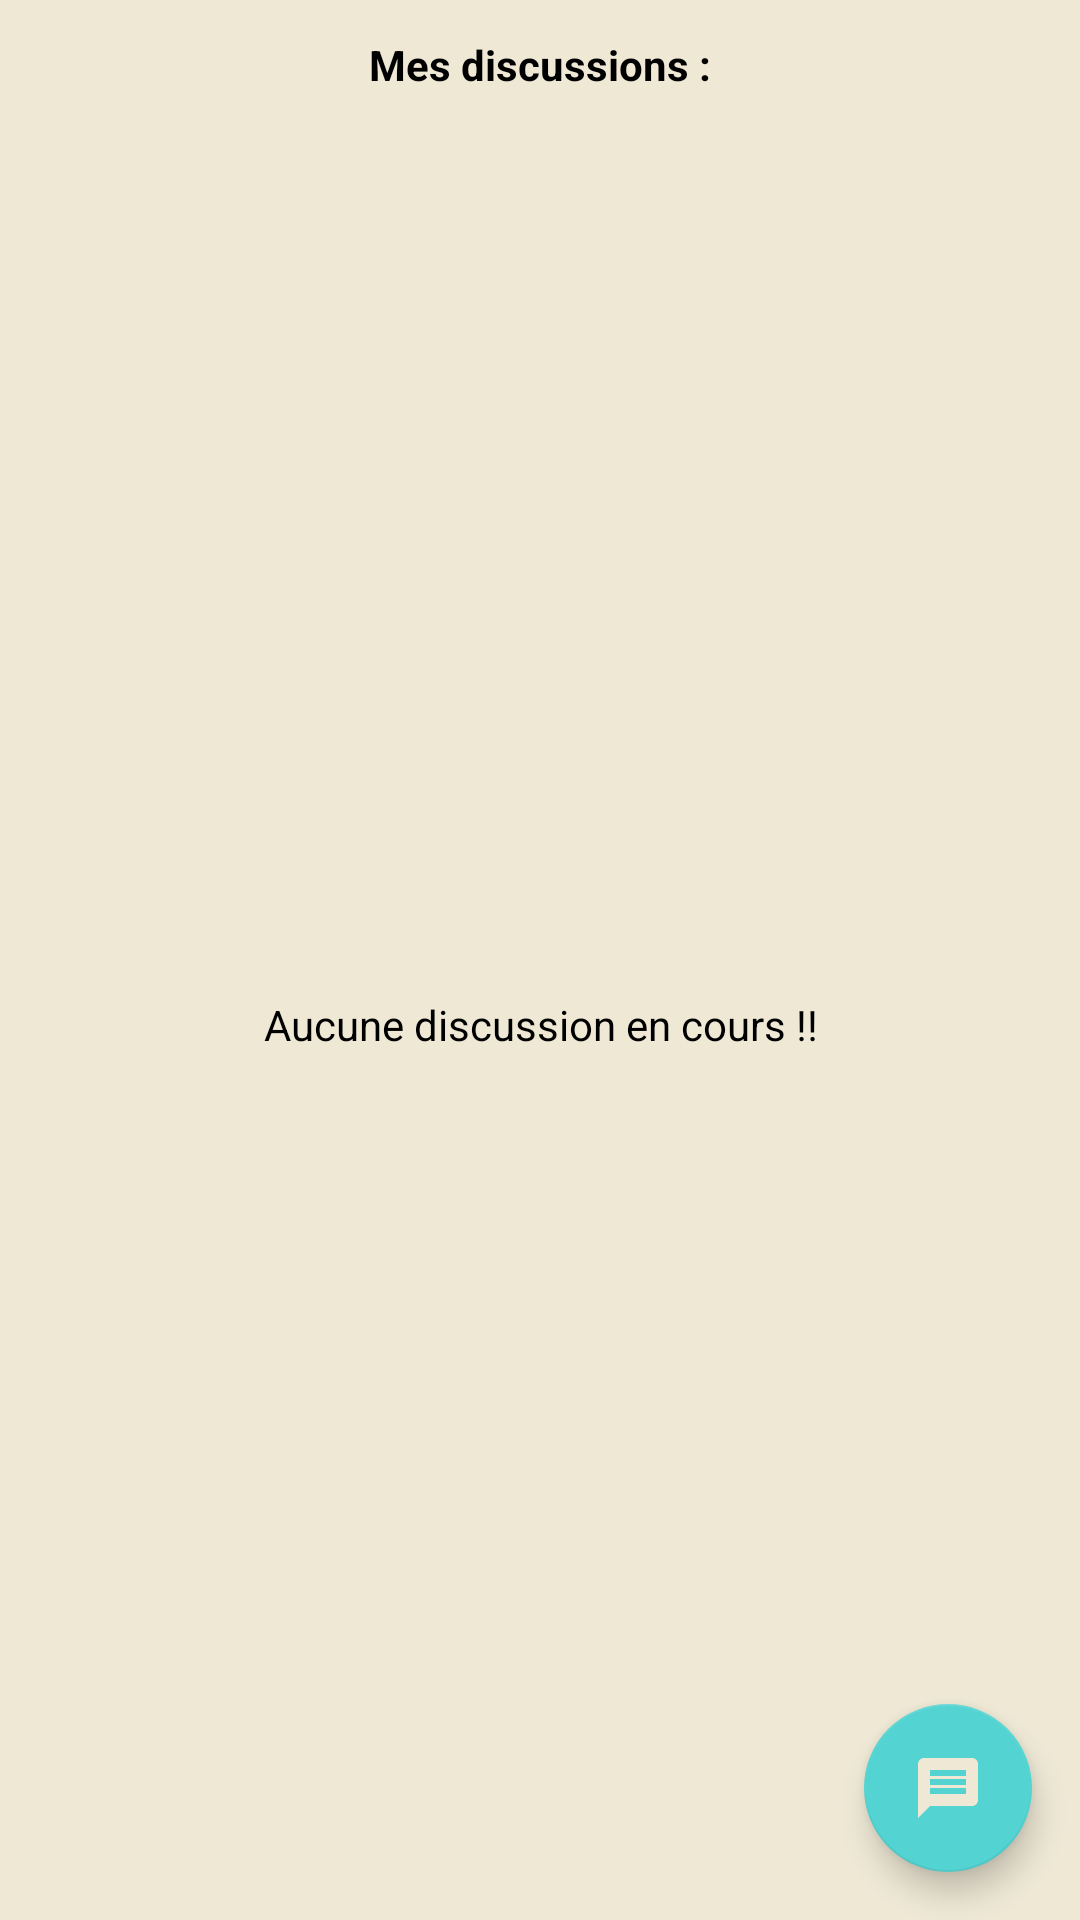

Named icons in this screenshot (1080*1920) and their bounding boxes, [left=x1, top=y1, right=x2, bottom=y2]:
message taupe: [left=864, top=1704, right=1032, bottom=1872]
